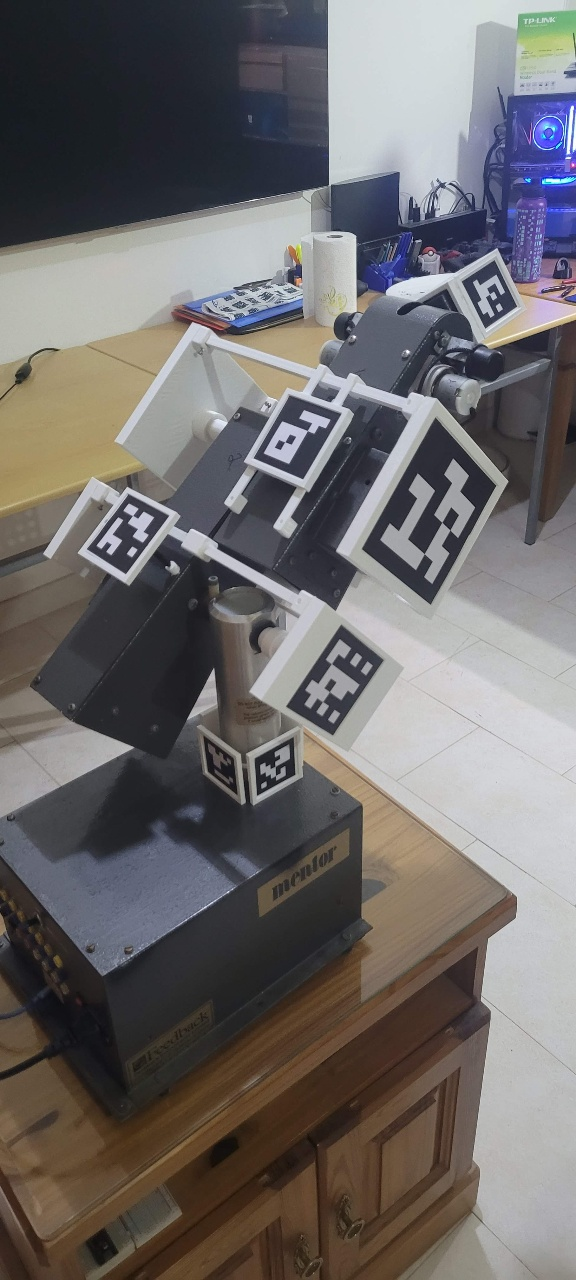Robot: (37, 318, 542, 964)
